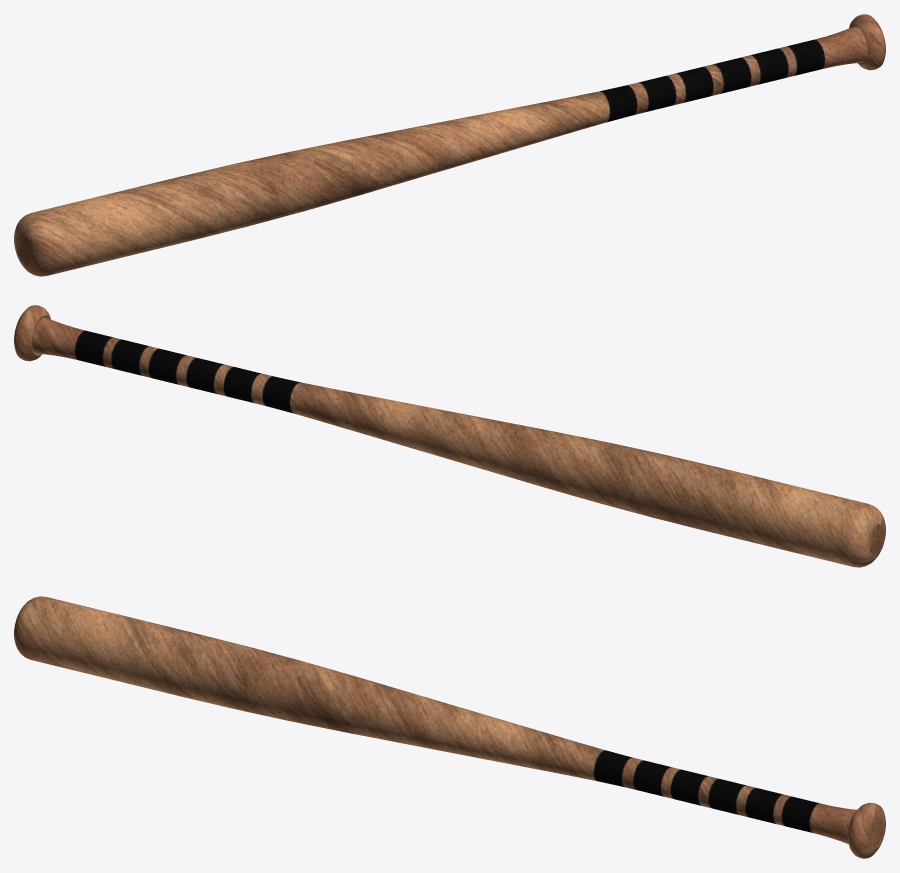
File: baseball_bat.glb
3 views of the same model, one above another, from view 1: azimuth 30°, elevation 25°; view 2: azimuth 150°, elevation 25°; view 3: azimuth 330°, elevation 25° (orthographic).
Parts seen in each view (by area): view 1: Cylinder; view 2: Cylinder; view 3: Cylinder.
Boxes of the visible parts, left/top/right/bottom form: Cylinder: left=14, top=14, right=885, bottom=276; Cylinder: left=14, top=305, right=885, bottom=567; Cylinder: left=14, top=596, right=885, bottom=858.
Size of the model in its own units: 1.03 by 0.068 by 0.068.
1 material, 1 textured.
